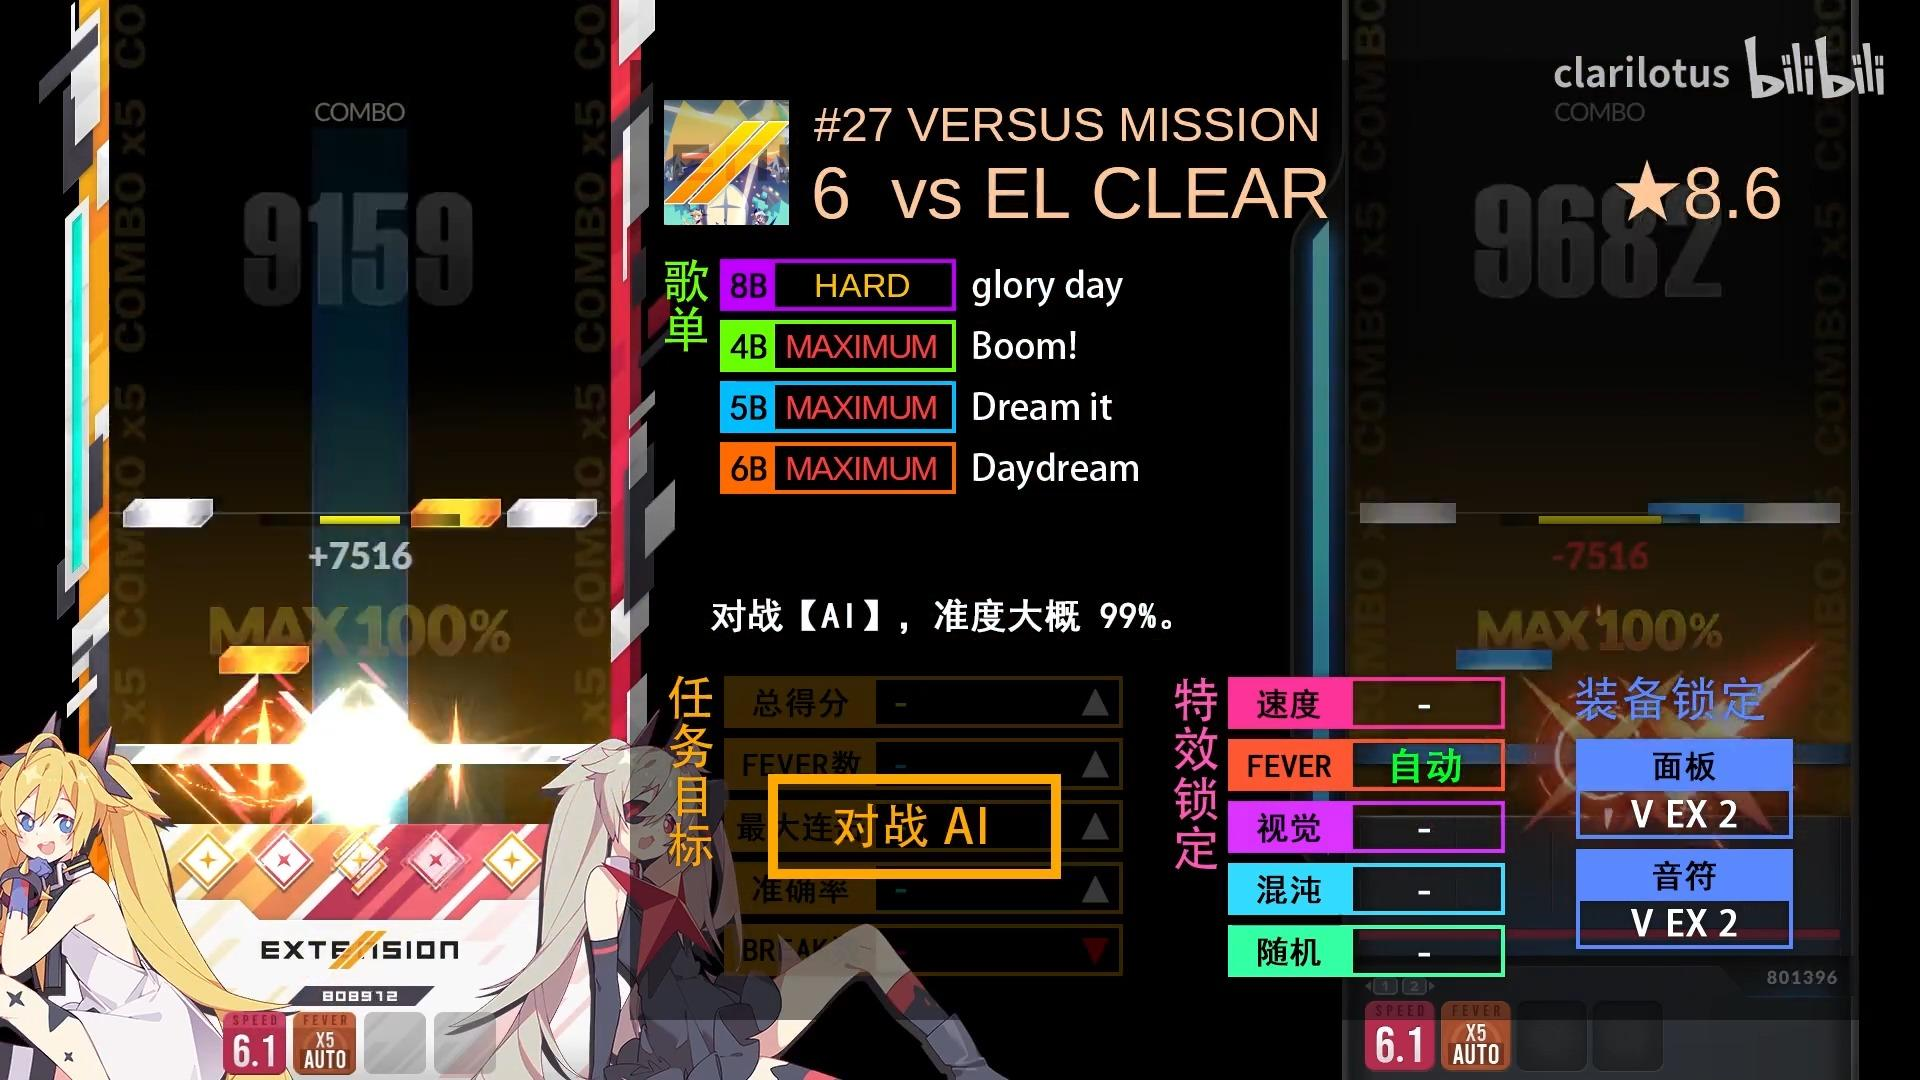note: (410, 497, 502, 529), (121, 498, 214, 527), (219, 645, 310, 674), (508, 498, 597, 527)
